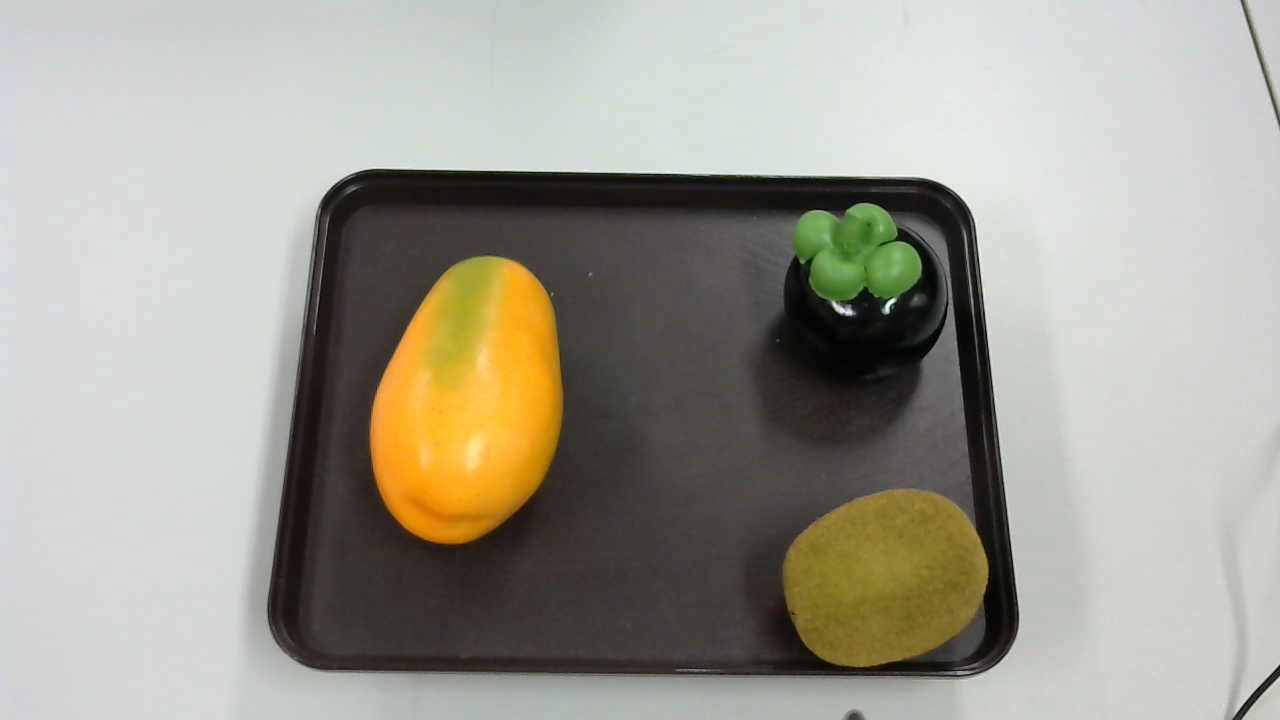kiwi fruit: (783, 484, 995, 673)
mangosteen: (779, 201, 951, 380)
papya: (362, 254, 572, 550)
